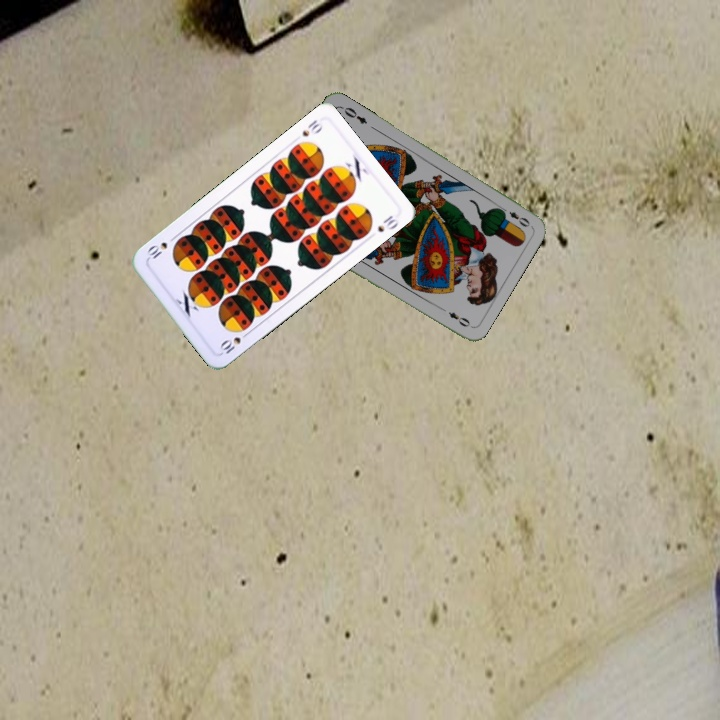EO: (496, 202, 533, 230)
S10: (215, 324, 252, 356), (298, 115, 326, 139)
